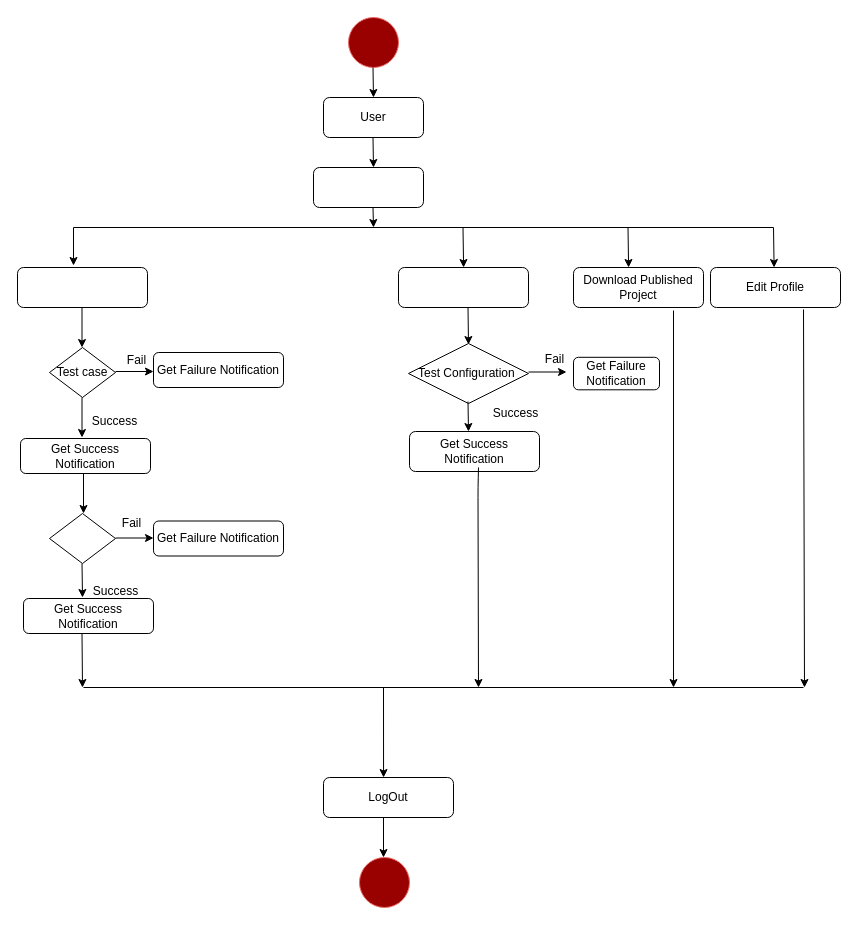
Image size: 858x925. Some labels were removed from this diagram. Here are the shapes that lost their labels. From the top down, the centre of each, then its label:
At point 368,187: "Login".
At point 82,287: "Build Project".
At point 463,287: "Publish Project".
At point 82,538: "Build".
